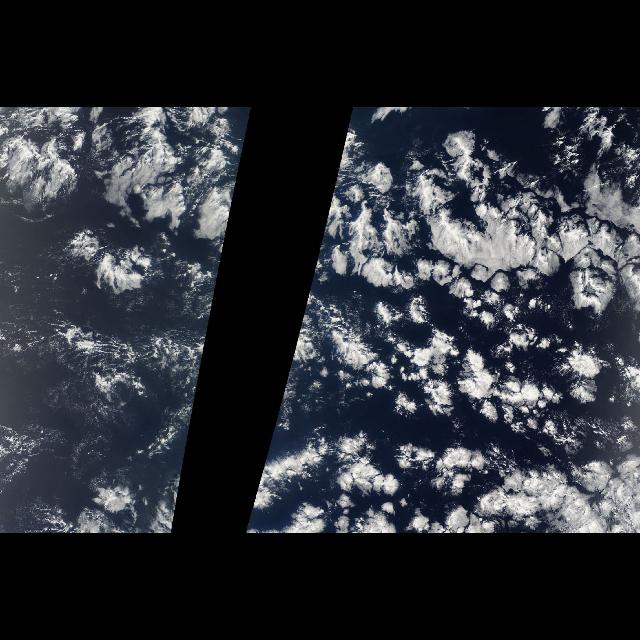Flower: (280, 284, 640, 522)
